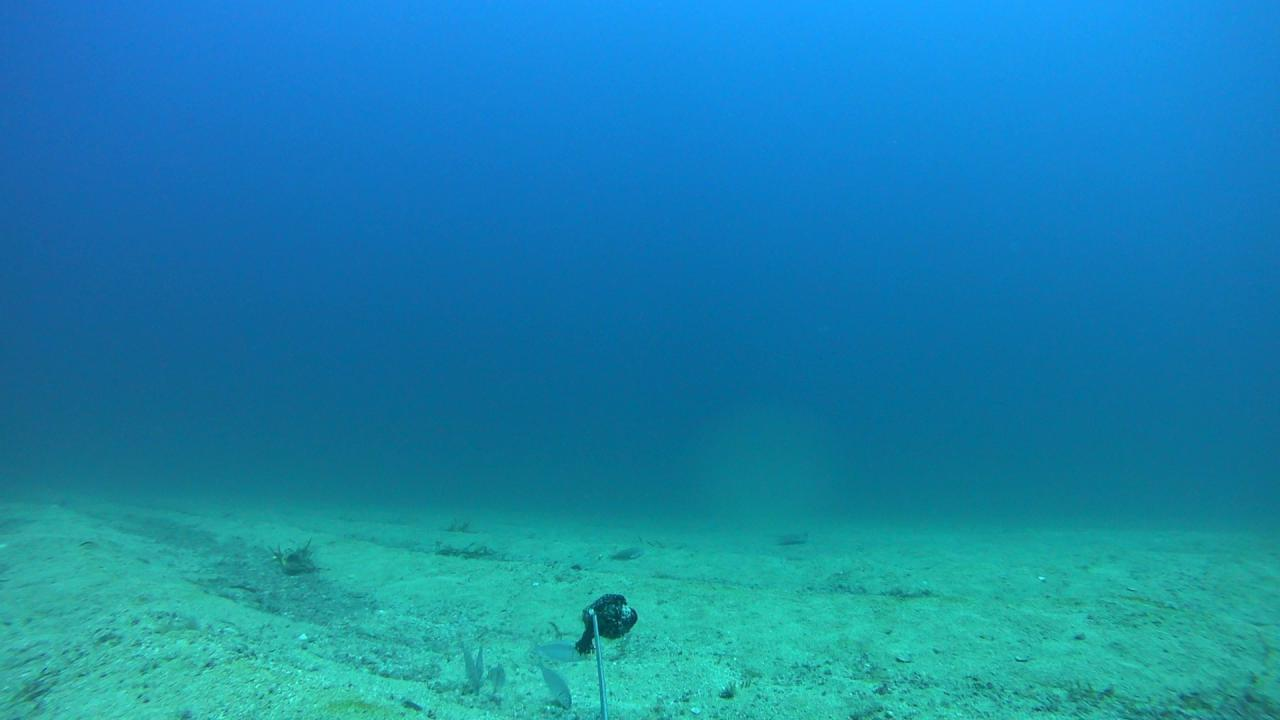pagellus: (532, 656, 573, 706)
